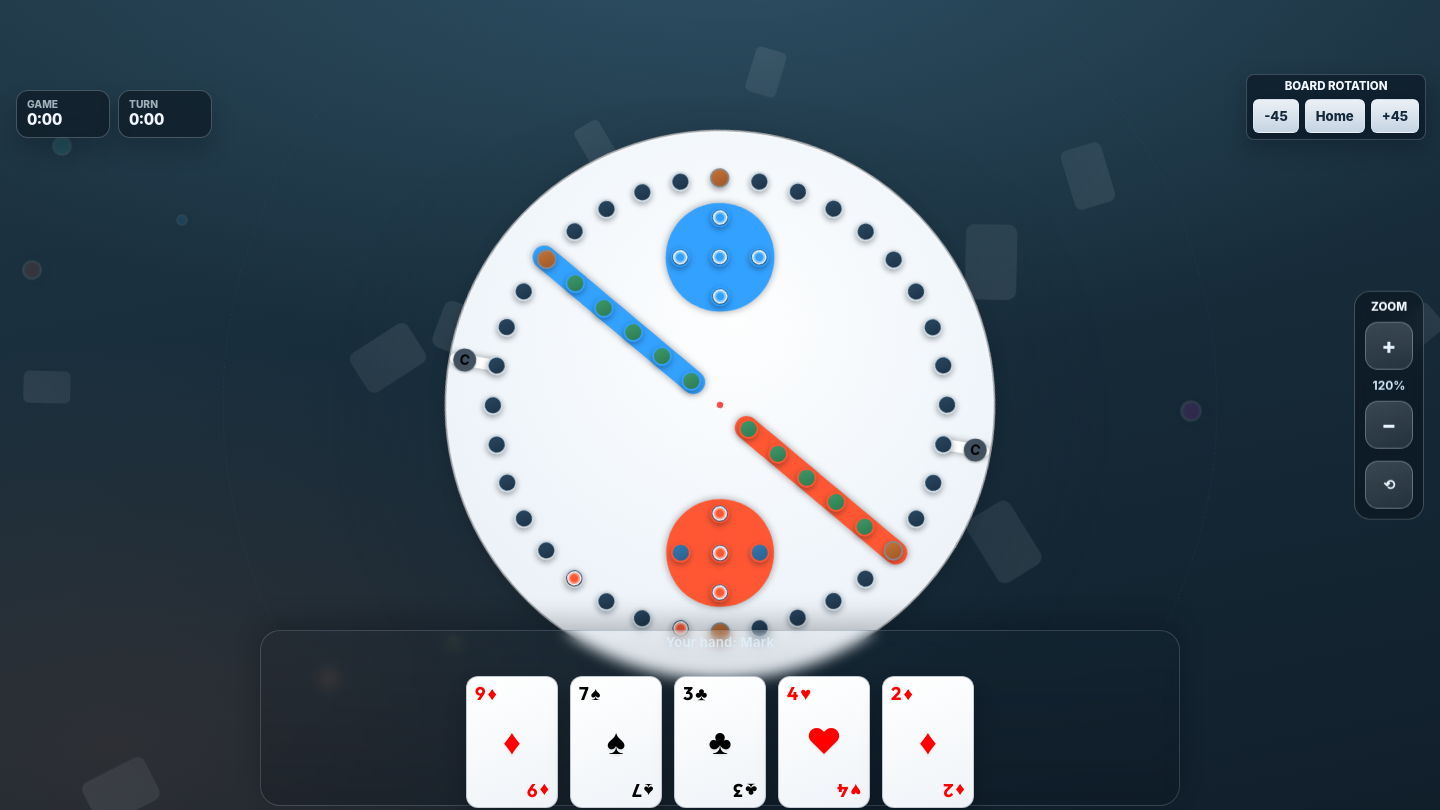
Test case: GameController discard availability › uses backward-first copy and prompts for split nine flow
What coordinates should you click on to do the following:
click the element with test id "card-p1-9d"
I would click on:
 (512, 742)
Its box is [466,676,558,808].
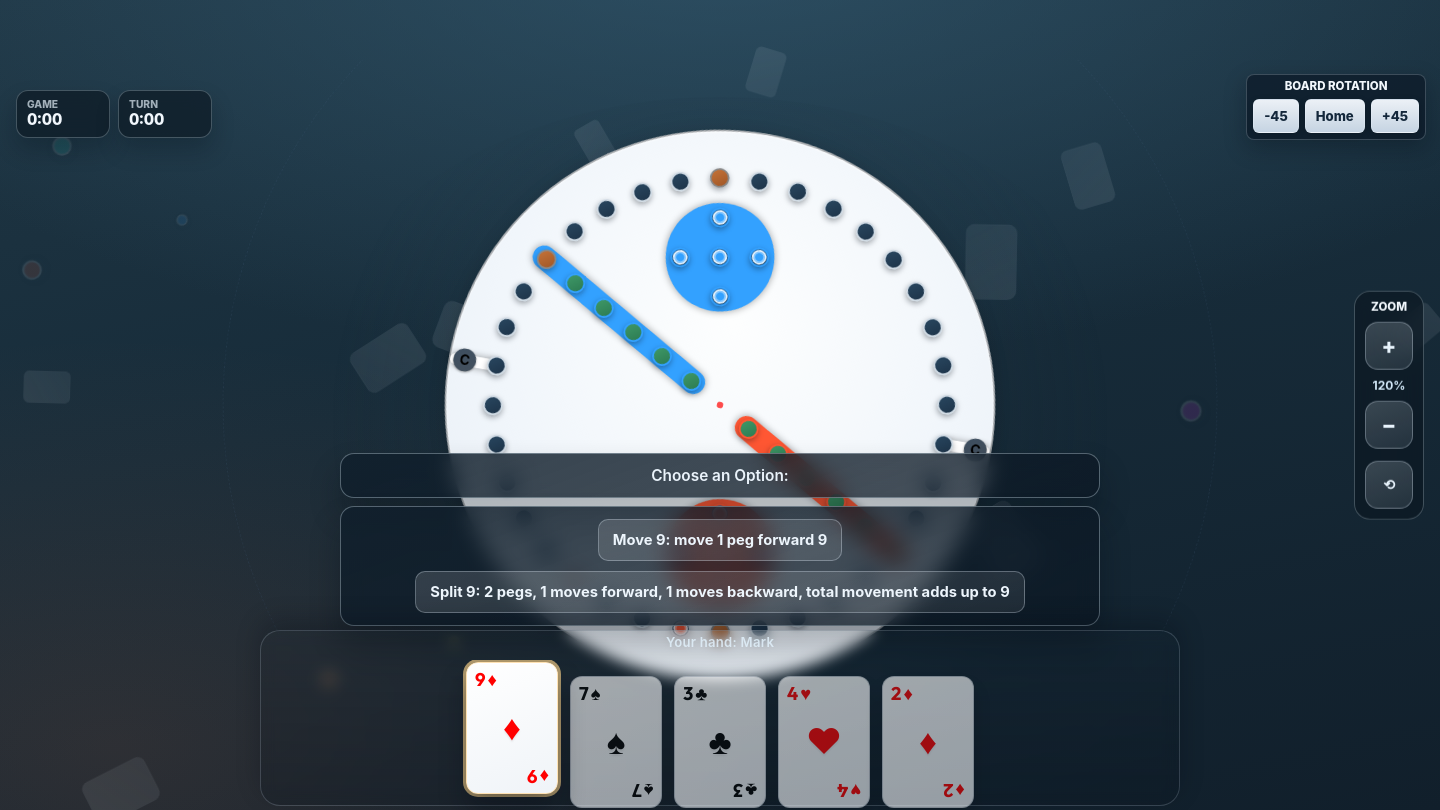
What coordinates should you click on to do the following:
click the button with test id "nine-option-split"
I would click on:
 (720, 592)
Its box is [415,571,1025,613].
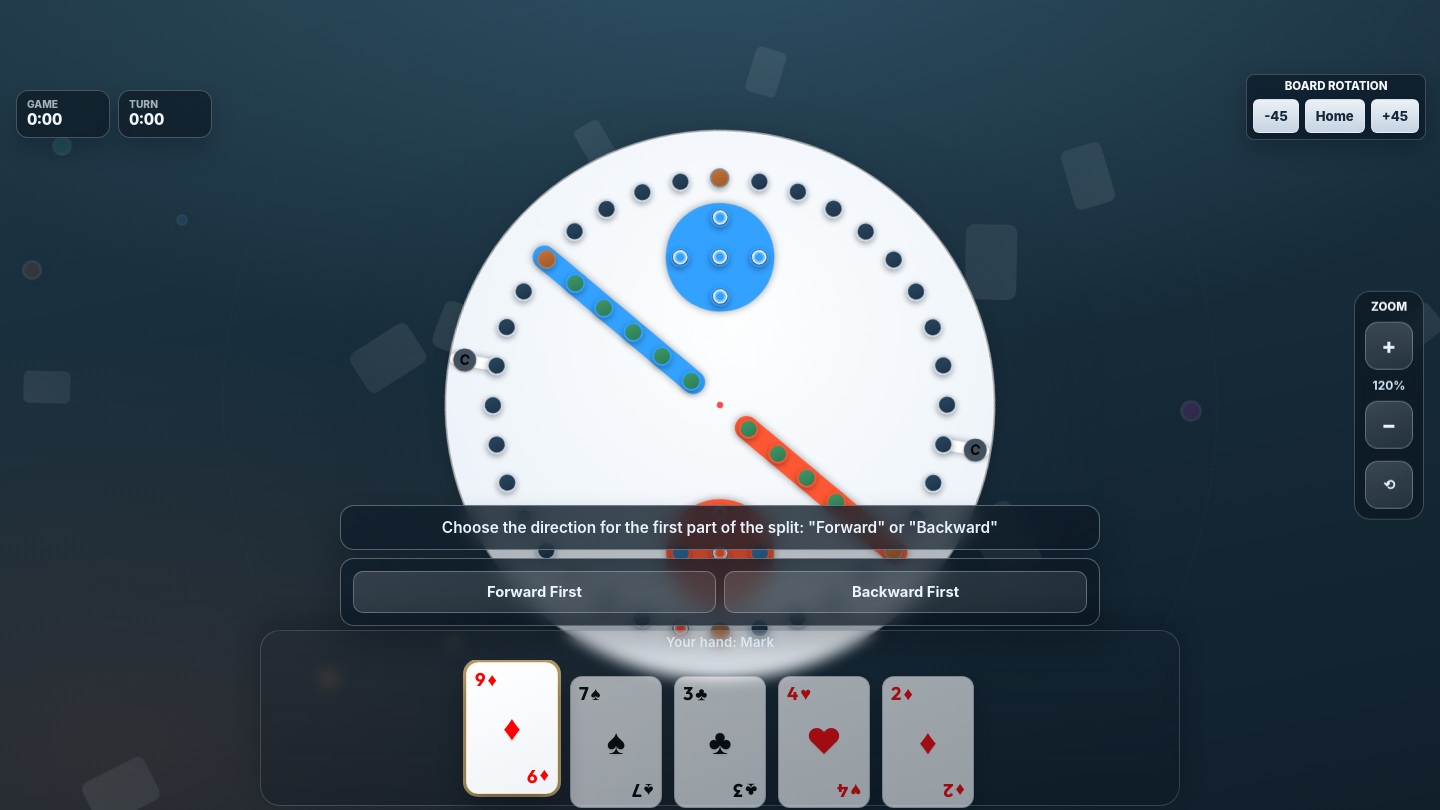
What coordinates should you click on to do the following:
click the button with test id "nine-direction-backward"
I would click on:
 (906, 592)
Its box is [724,571,1087,613].
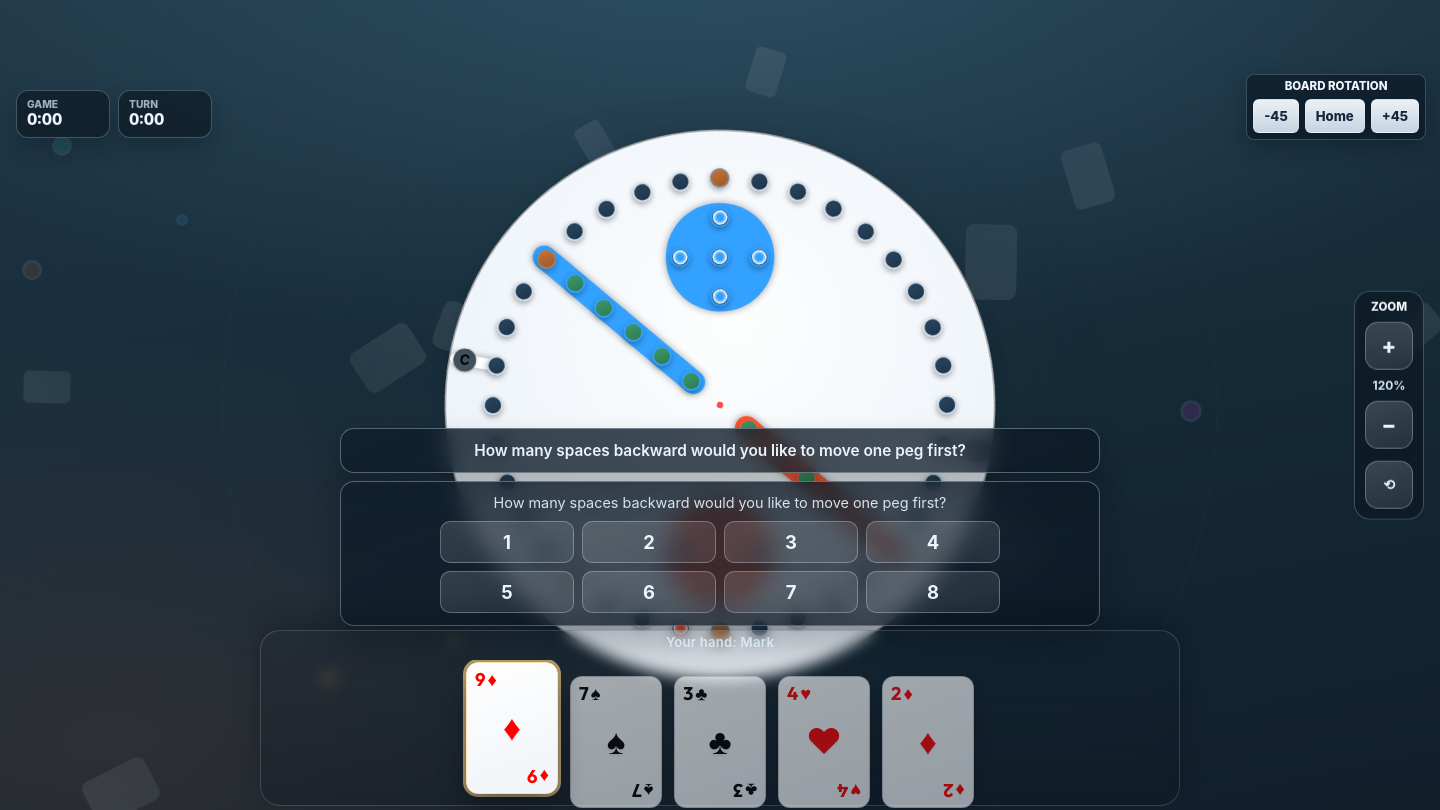
Check: the 1st text "How many spaces backward would you like to move one peg first?" is shown, box [474,441,966,460]
What coordinates should you click on to do the following:
click the button with test id "nine-step-3"
I would click on:
 (791, 542)
Its box is [724,521,858,563].
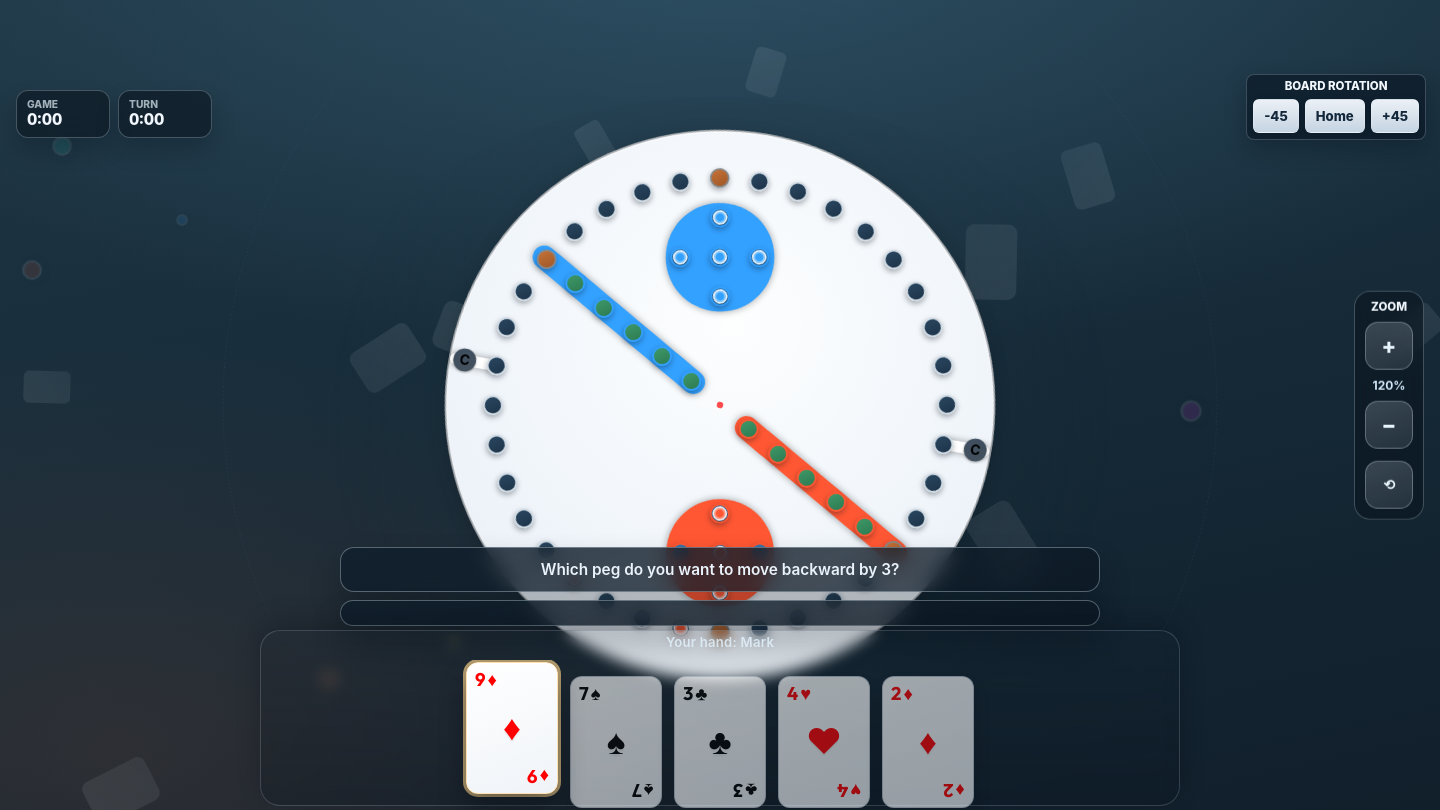
Check: the text "Which peg do you want to move backward by 3?" is shown, box [541,560,899,579]
What coordinates should you click on to do the following:
click the element with test id "peg-player-1-peg-1"
I would click on:
 (681, 628)
Its box is [672,620,689,637].
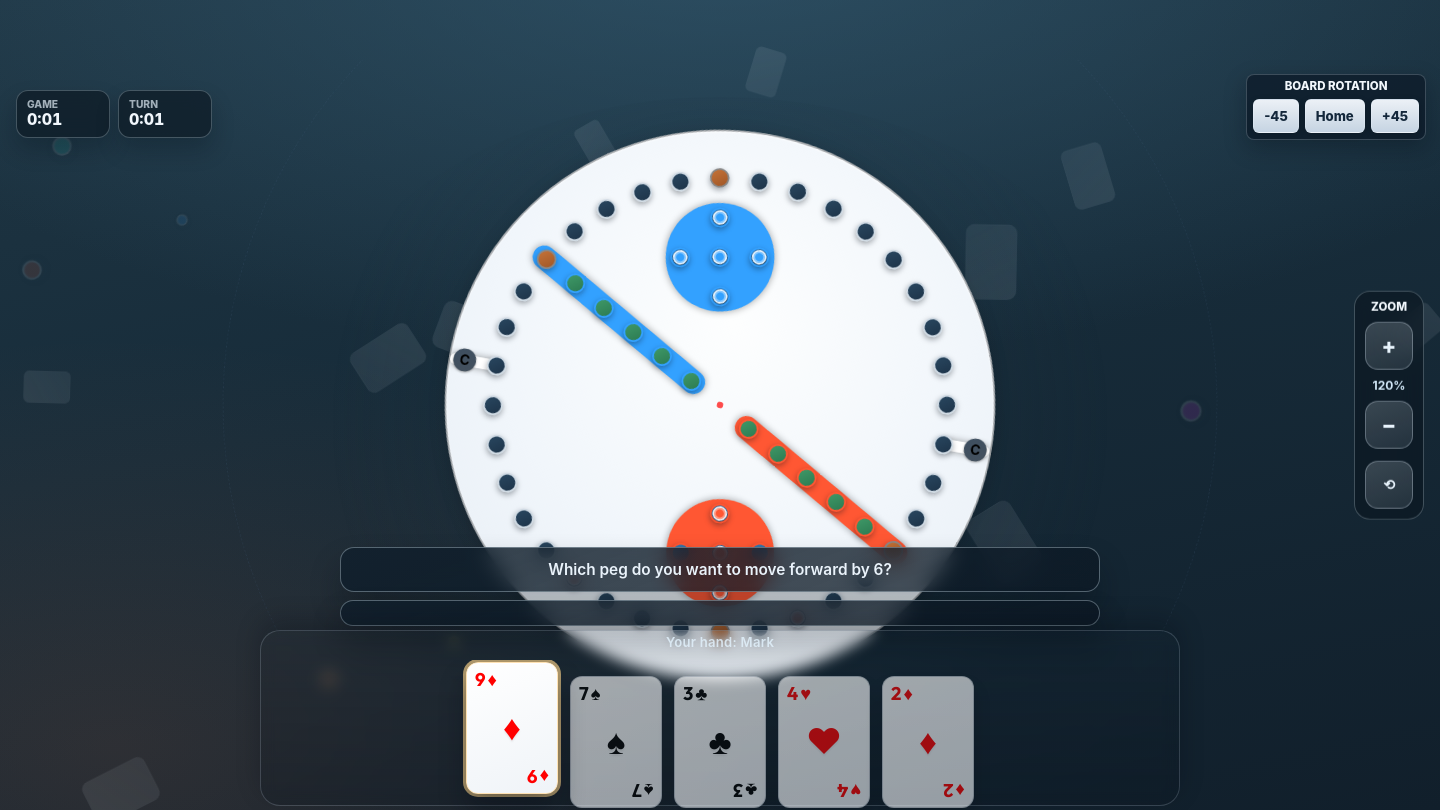
Check: the text "Which peg do you want to move forward by 6?" is shown, box [548,560,892,579]
